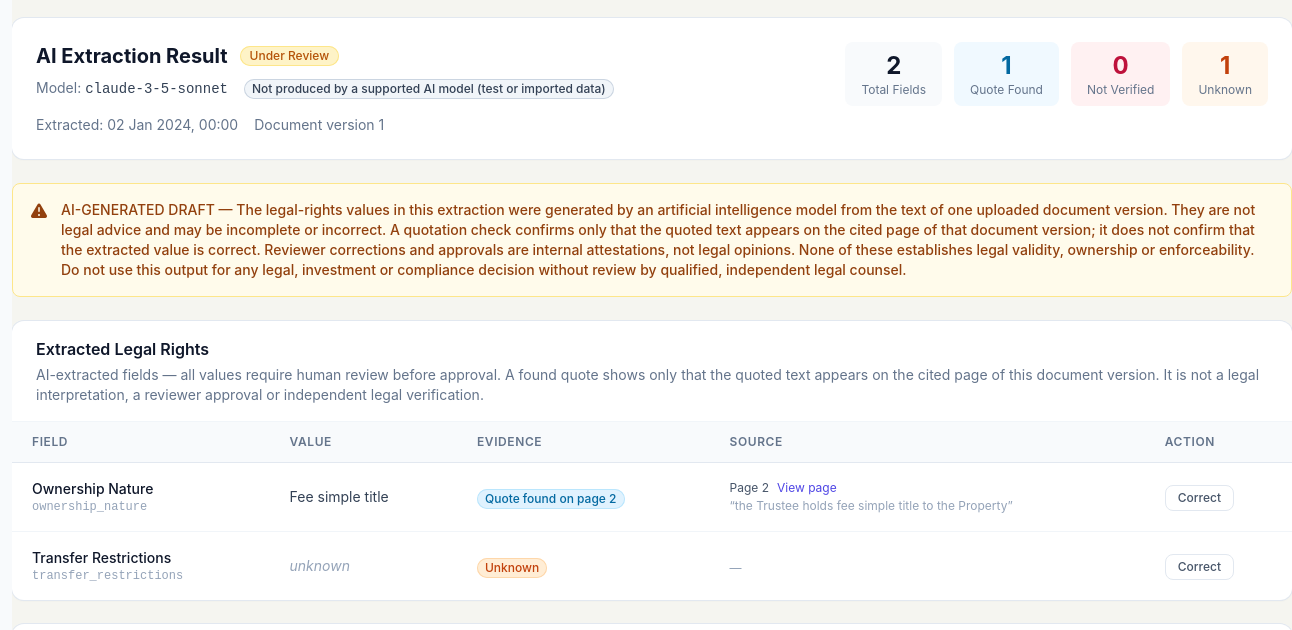
Correction precondition (issue A) › shows a stale correction as a conflict, reloads the claim and never retries on its own
Click the button "Correct" in the row of "Ownership Nature" at (1199, 498), box [1165,484,1234,510]
(page scrolled)
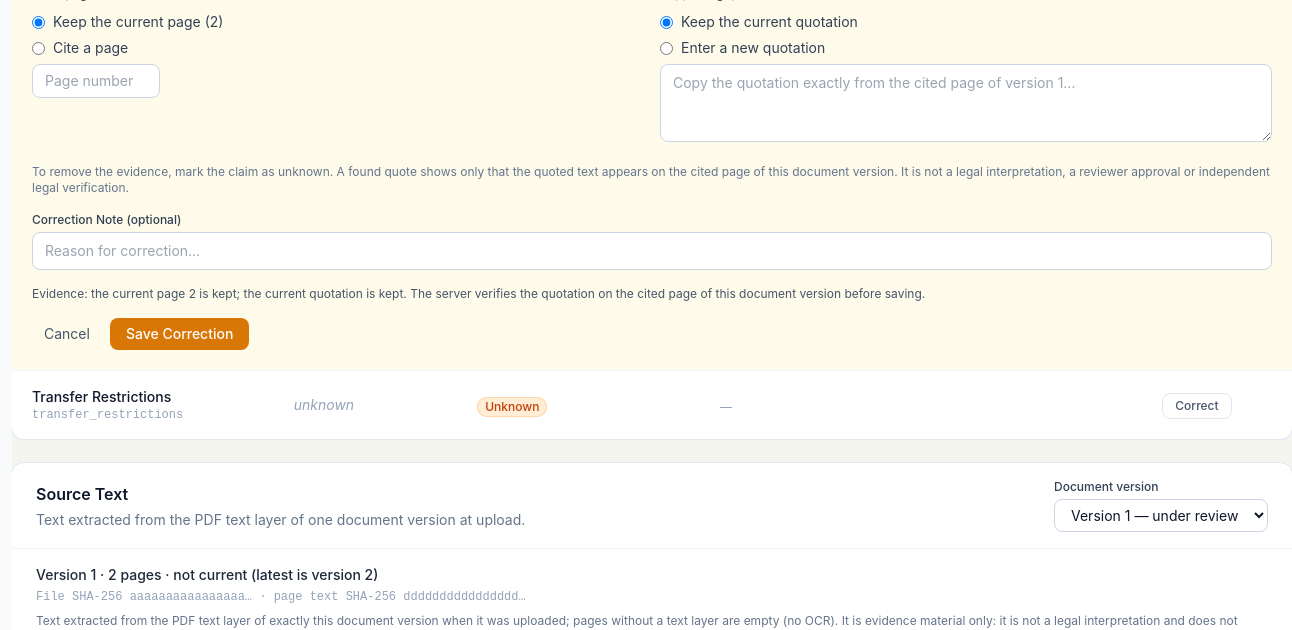
Click the button "Save Correction" at (180, 334), box [110,318,249,350]
(page scrolled)
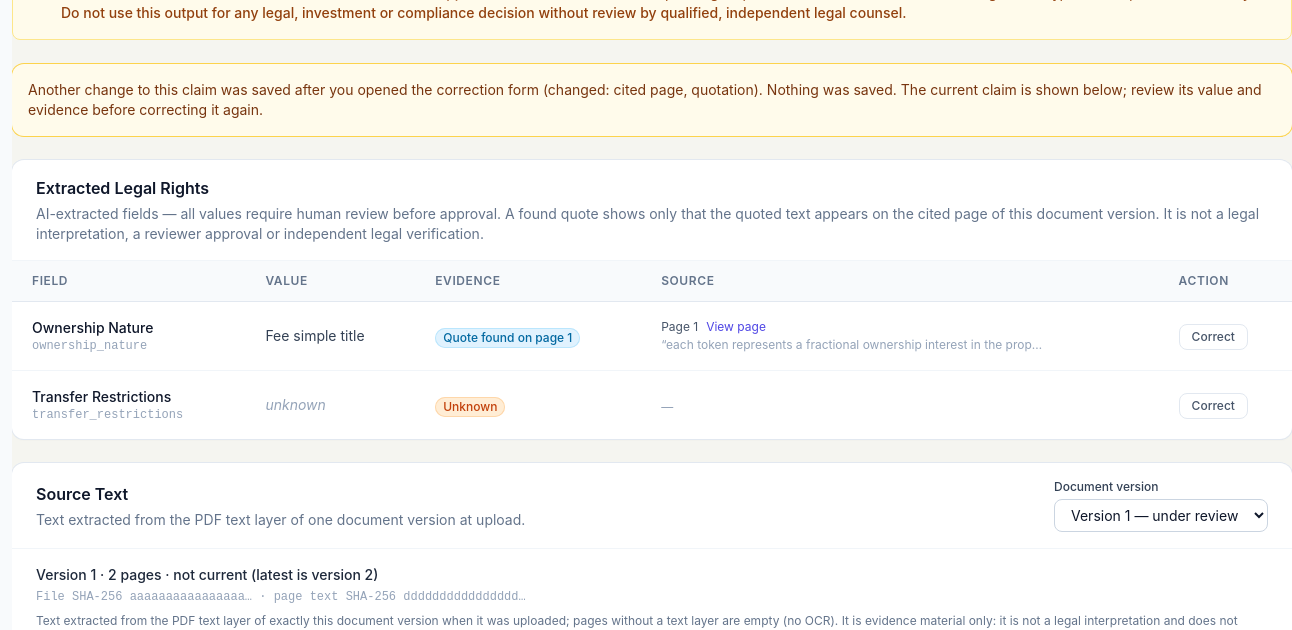
Now the message with test id "correction-conflict" shows "Another change to this claim was saved after you opened the correction form (changed: cited page, quotation). Nothing was saved.", box [28,81,1262,118]
Now the message with test id "correction-conflict" shows "review its value and evidence before correcting it again", box [28,81,1262,118]
Now the text "Page 1" is shown, box [661,319,698,334]
